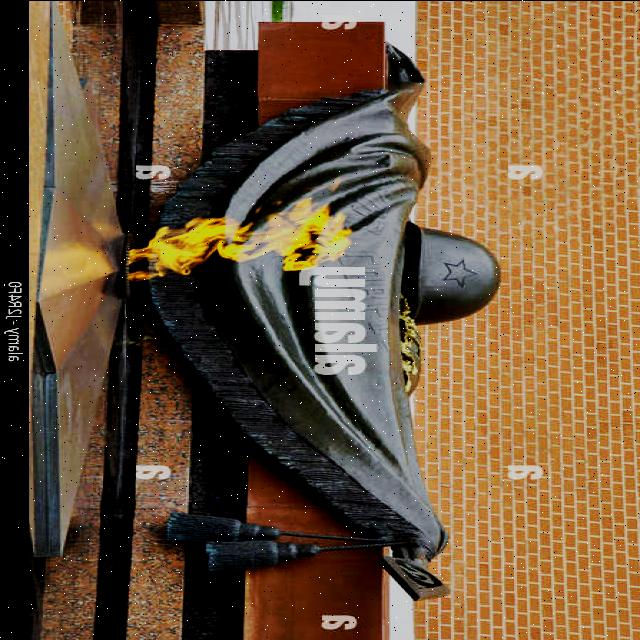api: (116, 188, 360, 288)
